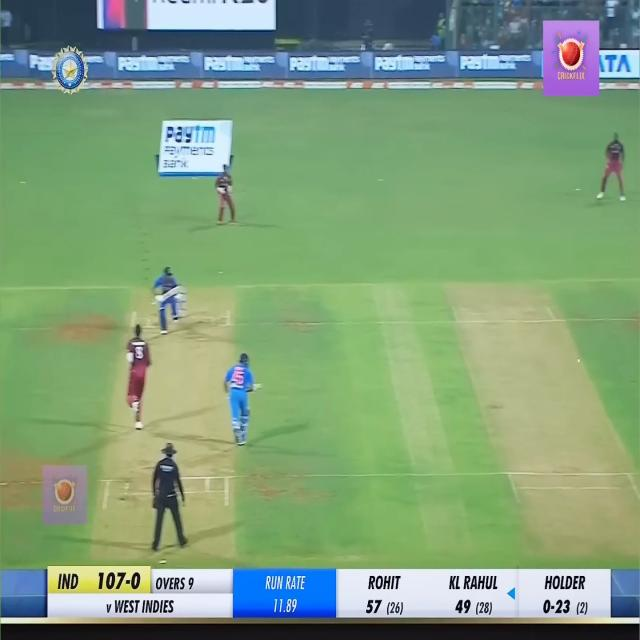fully_visible: (163, 122, 217, 146), (373, 51, 416, 78), (202, 53, 245, 78), (289, 55, 331, 75), (460, 53, 502, 73)
